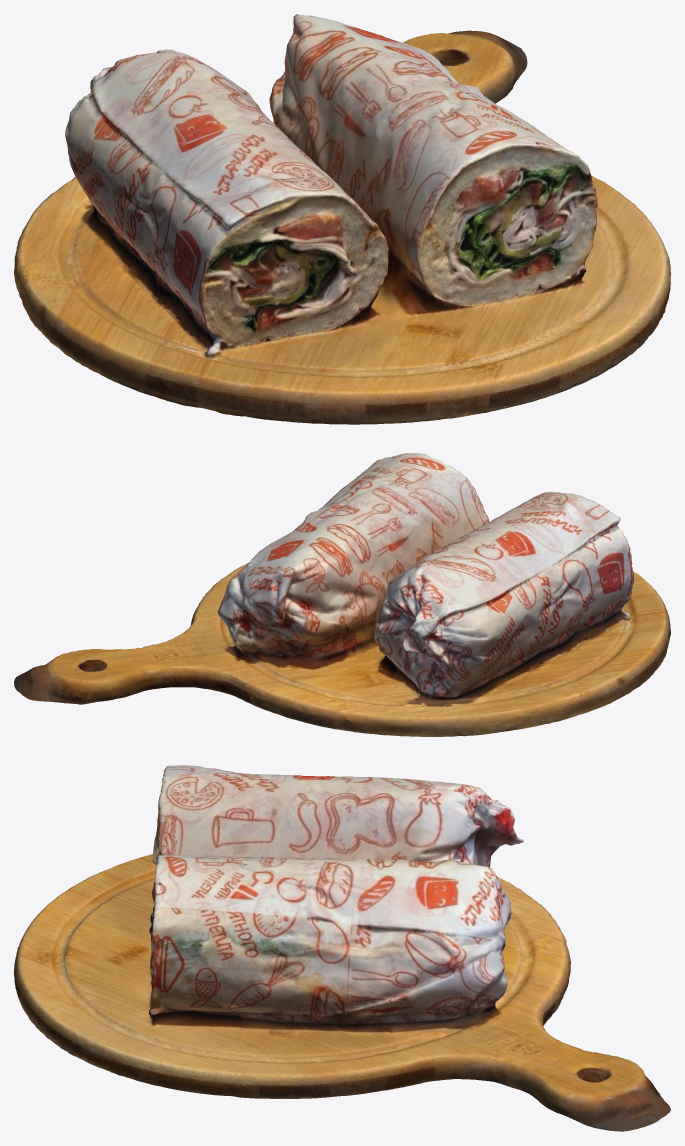
Rendered from Sandwich.jambon.glb.
3 renders of one model, top to bottom at view 1: azimuth 30°, elevation 25°; view 2: azimuth 150°, elevation 25°; view 3: azimuth 270°, elevation 25°, orthographic. The views are drawn at different scales.
Parts seen in each view (by area): view 1: Submesh_0; view 2: Submesh_0; view 3: Submesh_0.
Boxes of the visible parts, box(x1,y1,x2,y2) form: Submesh_0: box(14, 14, 670, 424); Submesh_0: box(14, 453, 670, 736); Submesh_0: box(14, 765, 670, 1131).
Bounding box in the file's own units: 0.3676 × 0.1032 × 0.3747.
Materials: 1 (1 with a texture image).
